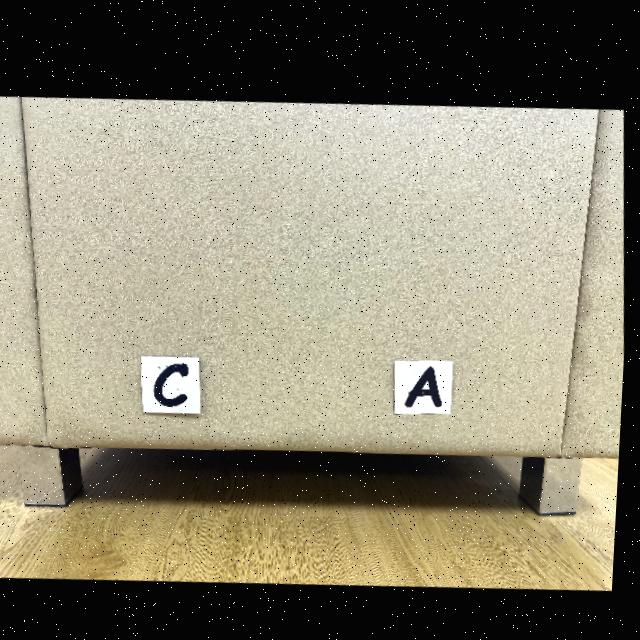A: (409, 360, 446, 400)
C: (157, 361, 192, 403)
